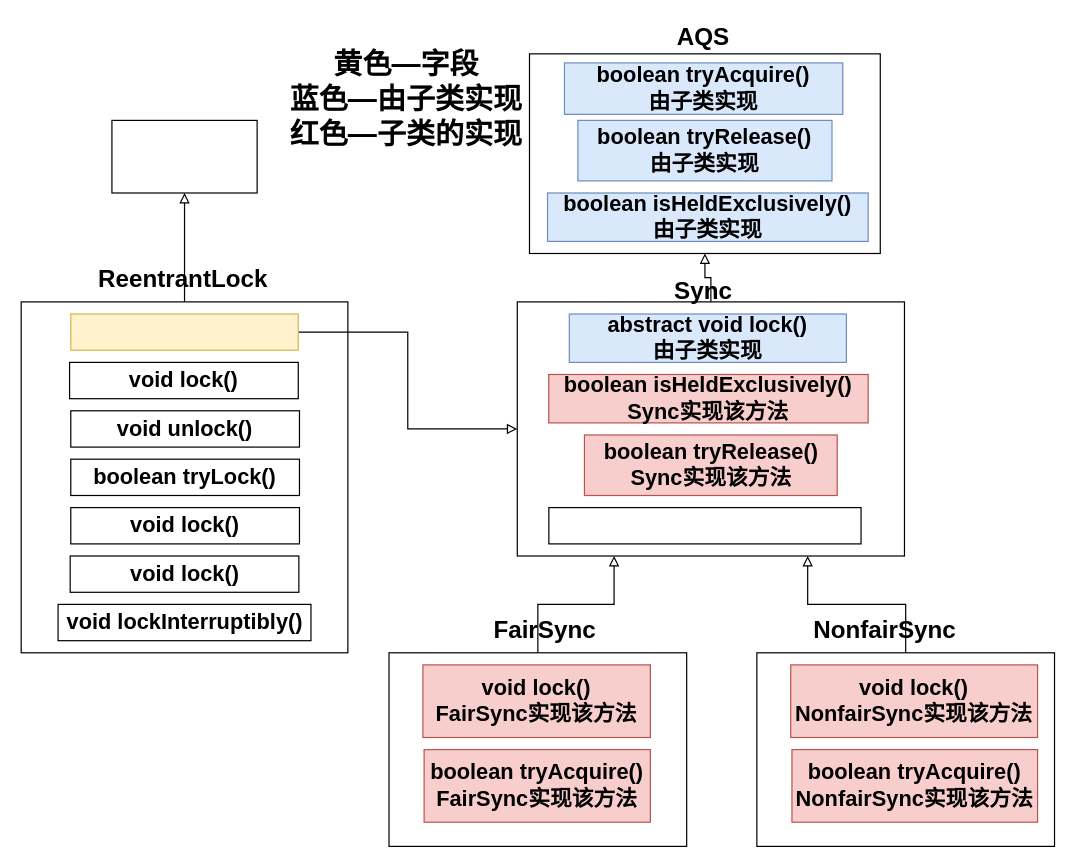
This 1076x868 diagram has some shape labels left out. The centre of each missing label's shape, as x and y in pixels:
boolean nonfairTryAcquire(): point (704, 525)
Lock <interface>: point (184, 156)
Sync sync: point (184, 331)
